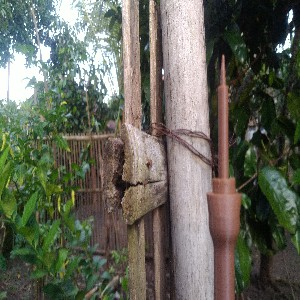solder: (206, 53, 243, 300)
